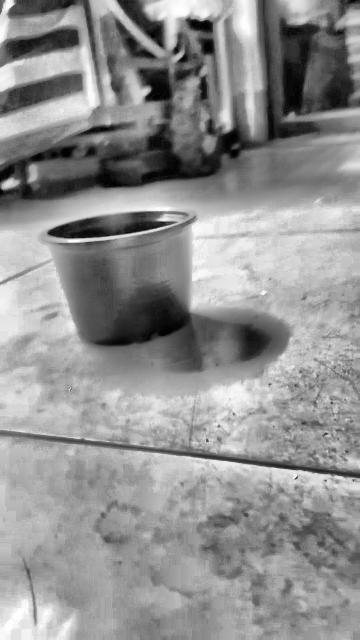pot: (41, 209, 197, 345)
